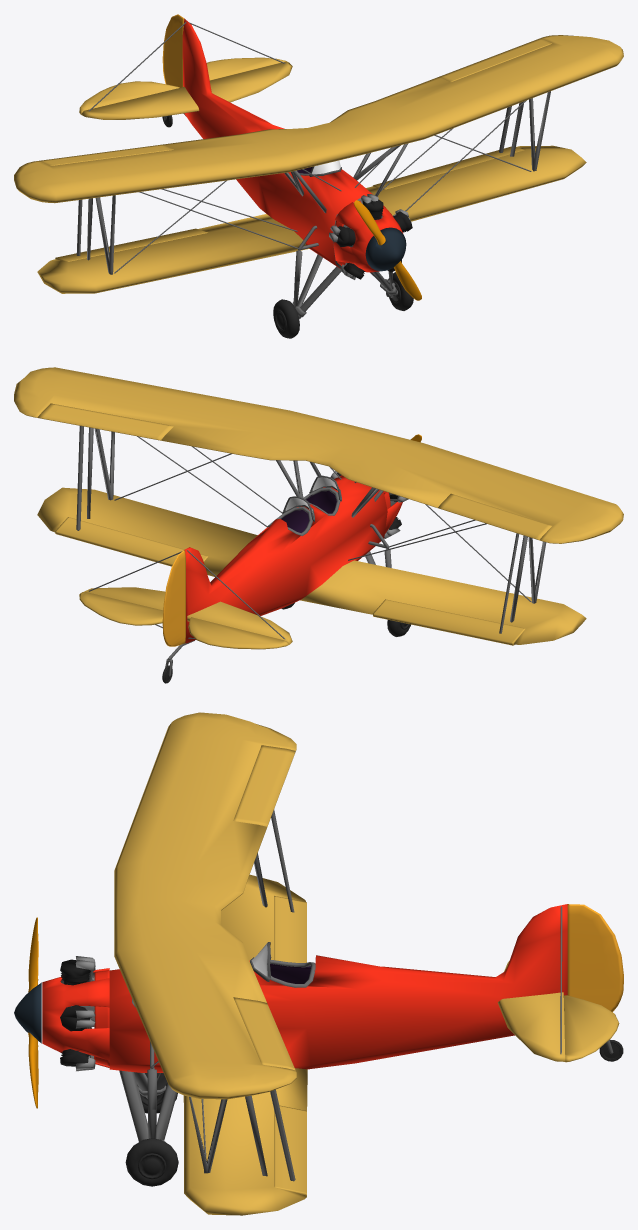
Rendered from airplane.glb.
3 renders of one model, top to bottom at view 1: azimuth 30°, elevation 25°; view 2: azimuth 150°, elevation 25°; view 3: azimuth 270°, elevation 25°, orthographic. The views are drawn at different scales.
Parts seen in each view (by area): view 1: Body; view 2: Body; view 3: Body.
Boxes of the visible parts, x1,y1,x2,y2 form: Body: [14, 14, 623, 338]; Body: [14, 367, 623, 683]; Body: [14, 712, 623, 1215].
Size of the model in its own units: 8.14 by 2.54 by 5.53.
